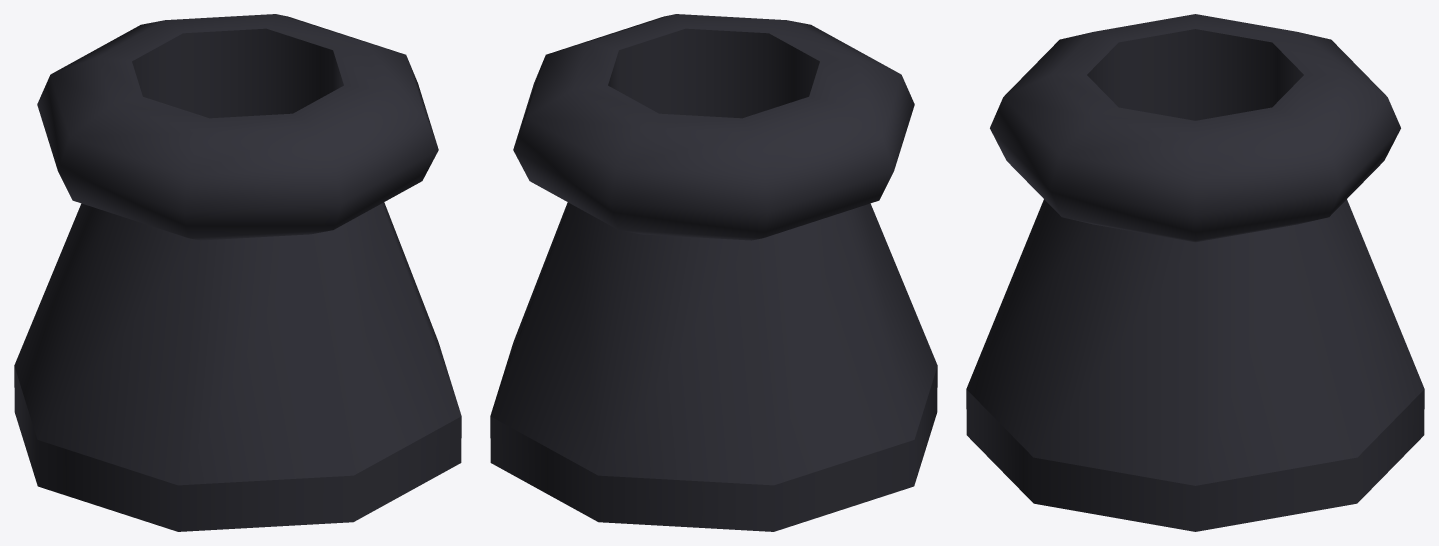
The model's file is QuillHolder_01.fbx.
3 renders of one model, left to right at view 1: azimuth 30°, elevation 25°; view 2: azimuth 150°, elevation 25°; view 3: azimuth 270°, elevation 25°, orthographic.
Visible parts, largest first — view 1: QuillHolder_01; view 2: QuillHolder_01; view 3: QuillHolder_01.
Boxes of the visible parts, left/top/right/bottom form: QuillHolder_01: left=14, top=14, right=461, bottom=531; QuillHolder_01: left=490, top=14, right=937, bottom=531; QuillHolder_01: left=966, top=14, right=1424, bottom=531.
Bounding box in the file's own units: 0.0562 × 0.0487 × 0.0562.
